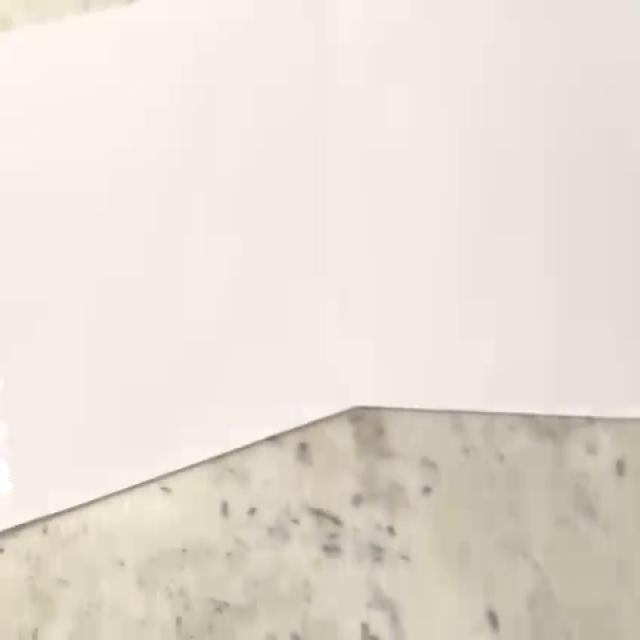road: (0, 0, 640, 536)
